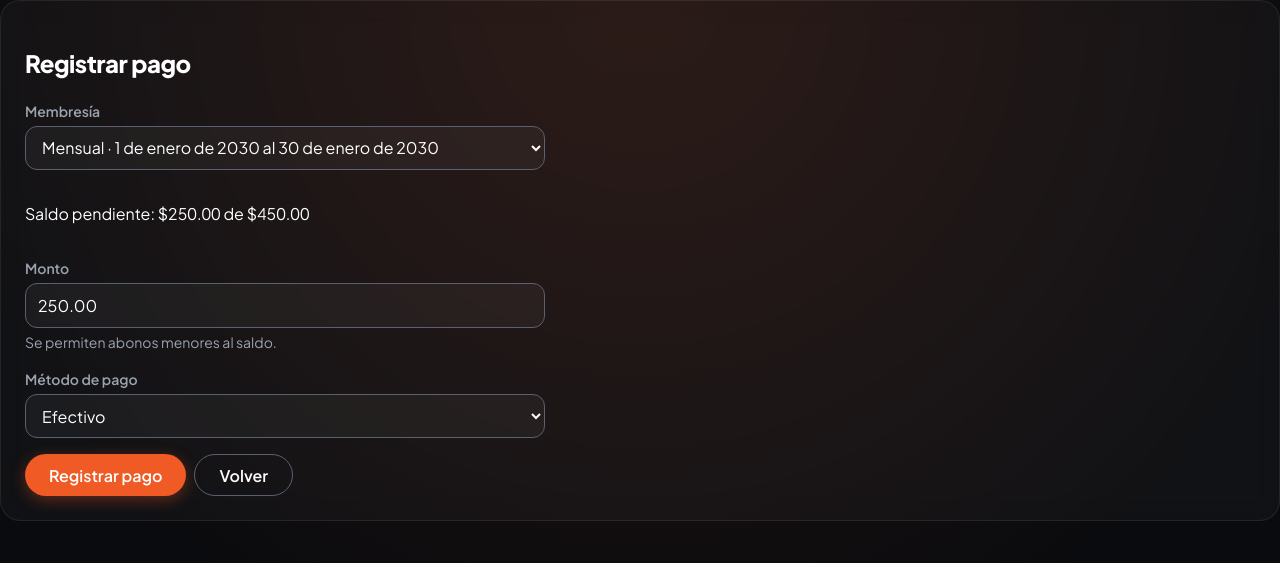
Test: formulario de pagos › no_envia_un_monto_mayor_al_saldo
Replace the text in the field labelled "Monto" with "300" at (285, 306), box [25,283,545,328]
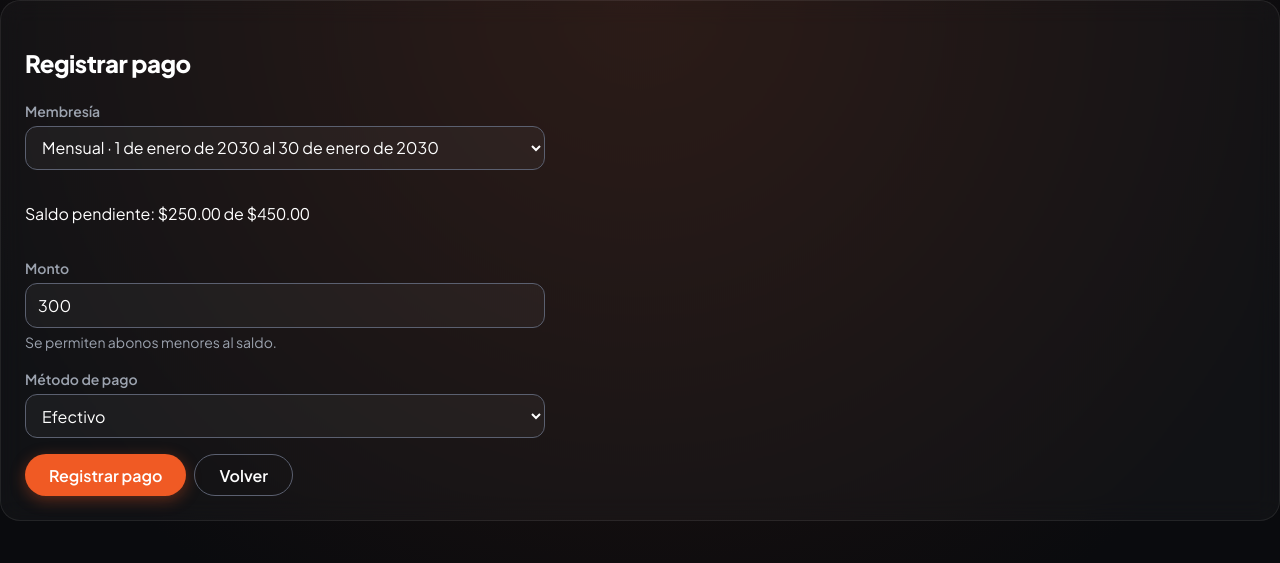
Click the button "Registrar pago".
click(106, 475)  # box [25,454,186,496]
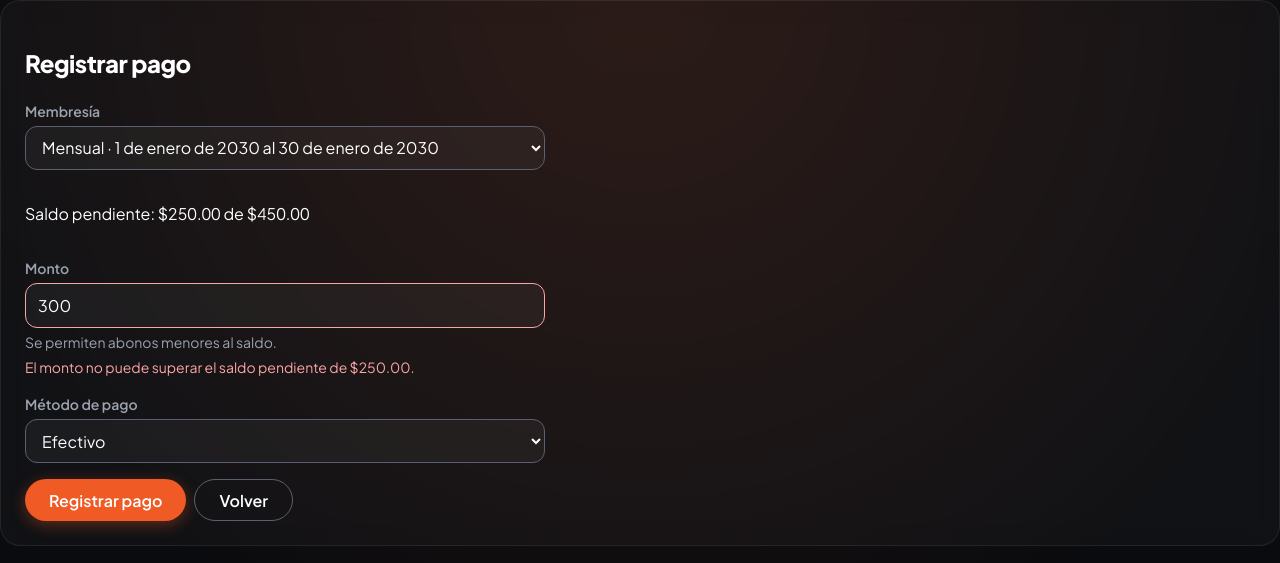
Result: the text "El monto no puede superar el saldo pendiente de $250.00." is shown at [25,358,414,376]
